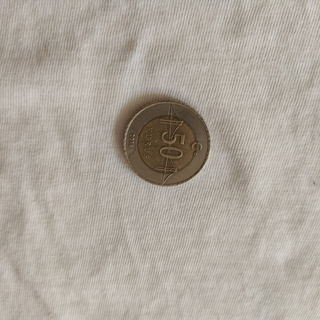50KURUS: (120, 98, 211, 188)
